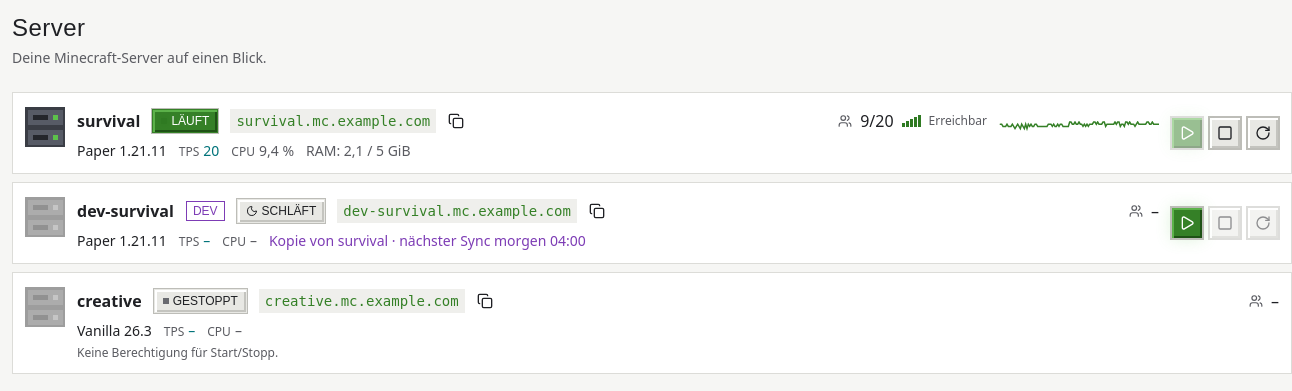
DashboardPage › sends a power action and confirms it with a toast
Click the button named "Neu starten" in the row of "Erreichbar" at x=1263, y=133, box [1247,117,1279,149]
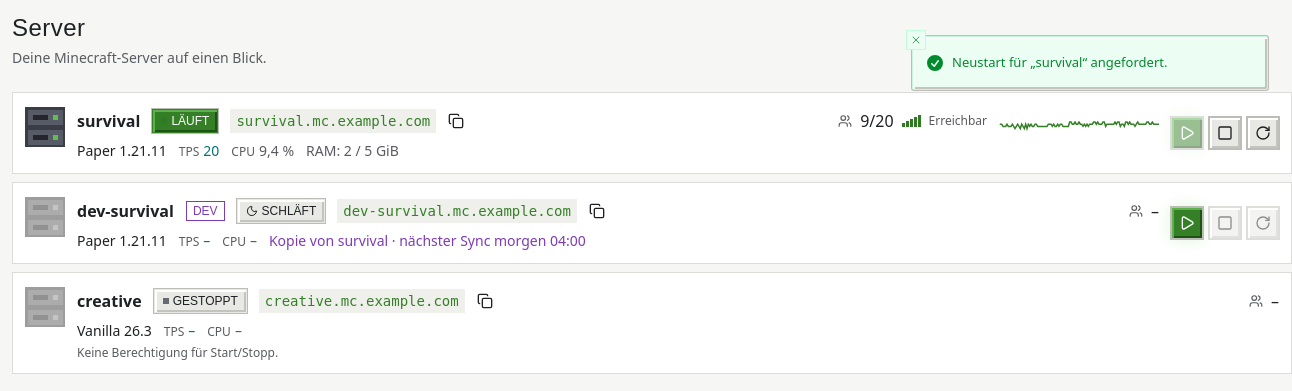
Check: the text "Neustart für „survival“ angefordert." is shown, box [952,53,1167,72]
